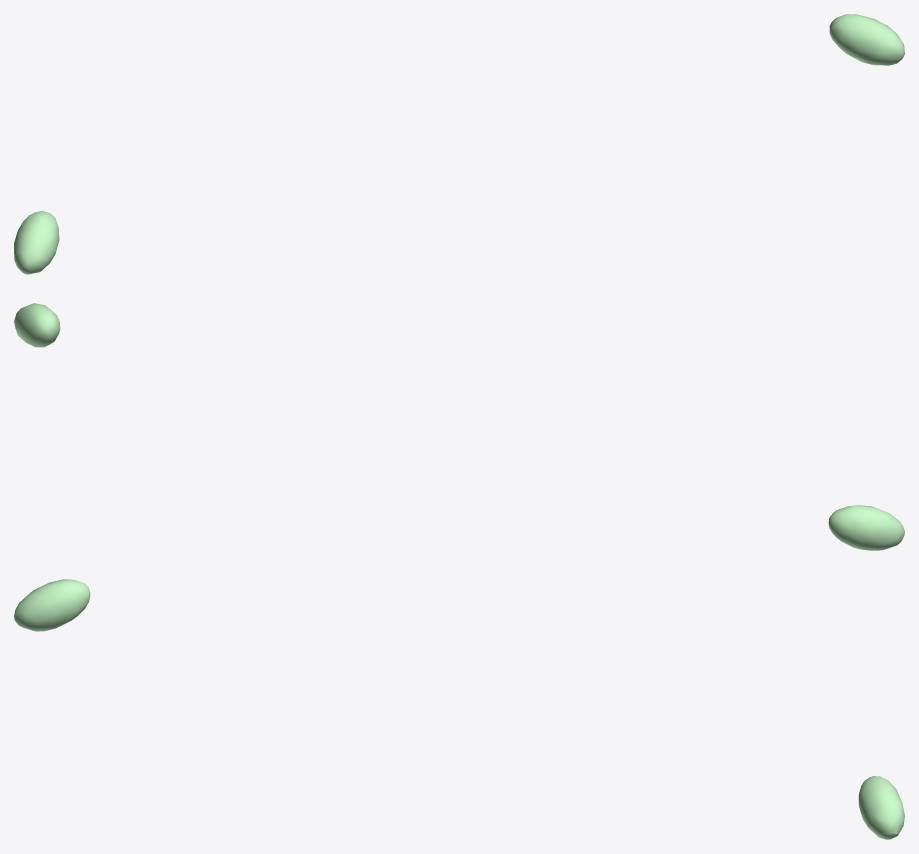
File: lymphatic.glb
3 views of the same model, one above another, from view 1: azimuth 30°, elevation 25°; view 2: azimuth 150°, elevation 25°; view 3: azimuth 330°, elevation 25° (orthographic).
Parts seen in each view (by area): view 1: left_ciliary_ganglion, right_ciliary_ganglion; view 2: right_ciliary_ganglion, left_ciliary_ganglion; view 3: right_ciliary_ganglion, left_ciliary_ganglion.
Boxes of the visible parts, x1=… form: left_ciliary_ganglion: x1=829, y1=14, x2=904, y2=65; right_ciliary_ganglion: x1=14, y1=211, x2=59, y2=274; right_ciliary_ganglion: x1=828, y1=505, x2=904, y2=550; left_ciliary_ganglion: x1=14, y1=303, x2=60, y2=347; right_ciliary_ganglion: x1=14, y1=579, x2=90, y2=631; left_ciliary_ganglion: x1=858, y1=776, x2=904, y2=839.
Bounding box in the file's own units: 56.78 × 2.78 × 3.51.
